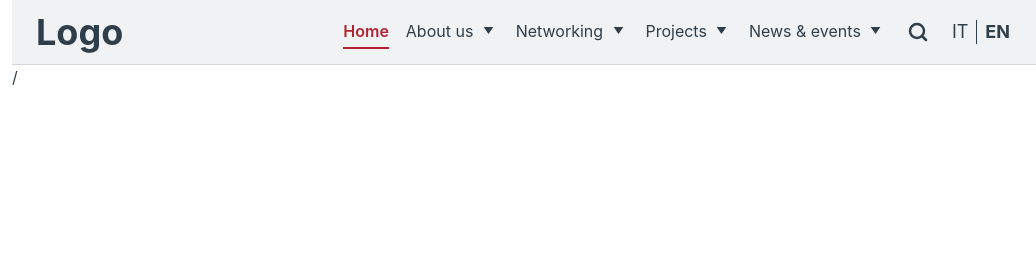
dropdown items scroll targets (en) › /about › clicking "Mission and vision" navigates to the page with its #hash and closes the dropdown
Click the button named "About us submenu" at (488, 31), box [478,19,498,43]
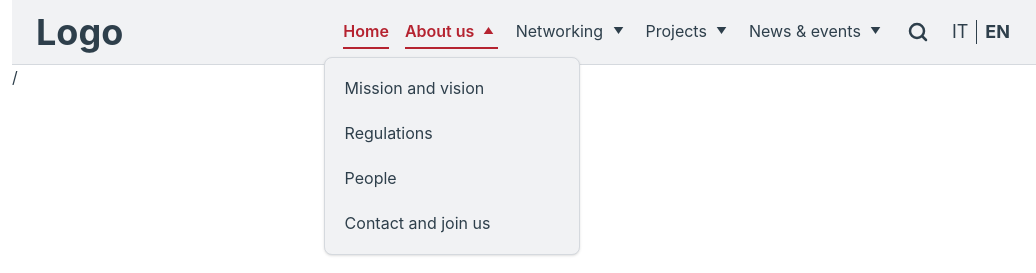
Click the link "Mission and vision" at (414, 88), box [345,78,484,98]
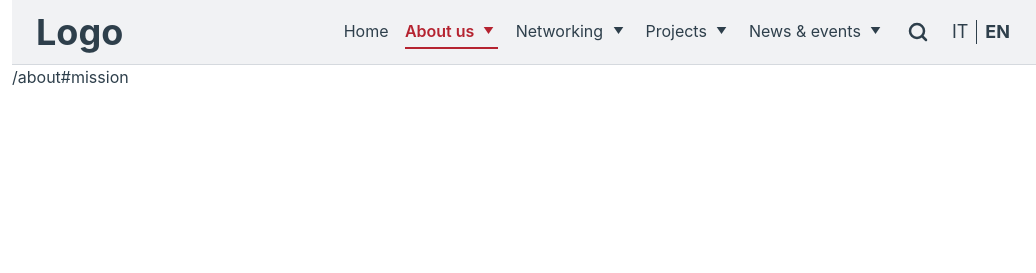
Check: the text with test id "location" reads "/about#mission", box [12,67,129,87]
